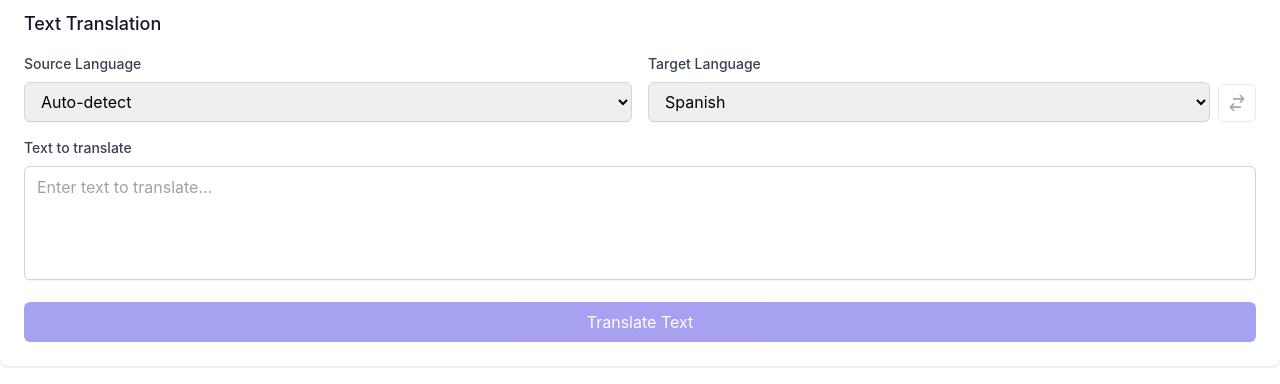
Test: TextTranslation Component › swap languages button works when source is not auto
# Set source to English
Select "English" in the dropdown labelled "Source Language". click: (328, 102)
box: [24,82,632,122]
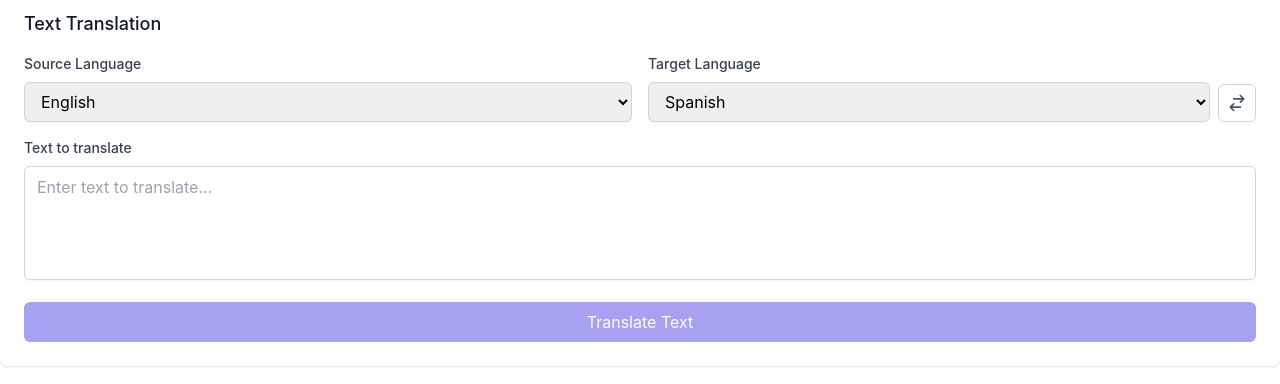
Expected: the button titled "Swap languages" is enabled
# Click swap button
Click the button titled "Swap languages". click: (1237, 103)
box: [1218,84,1256,122]
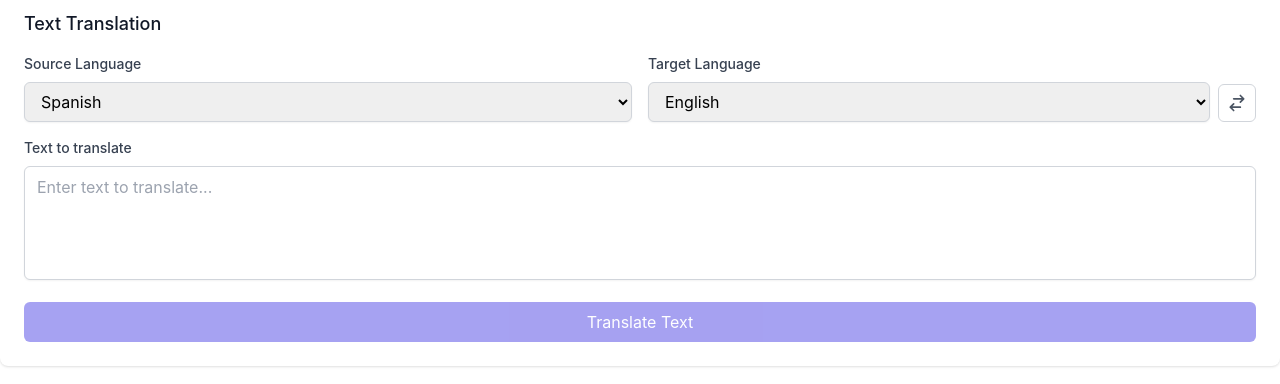
Expected: the dropdown labelled "Target Language" shows "English", [648,82,1210,122]
